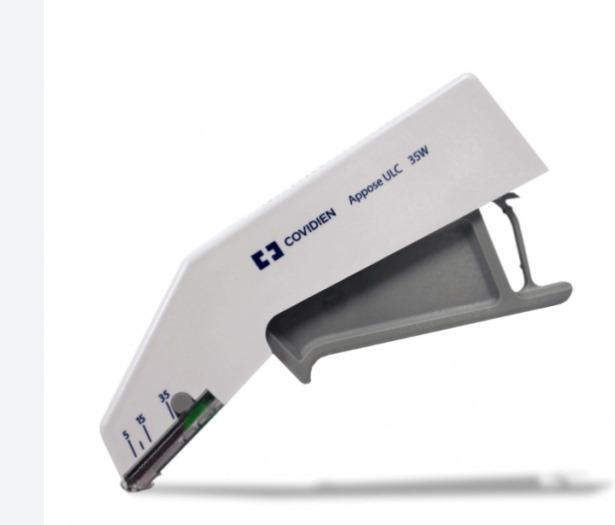Skin Stapler: (96, 60, 582, 493)
